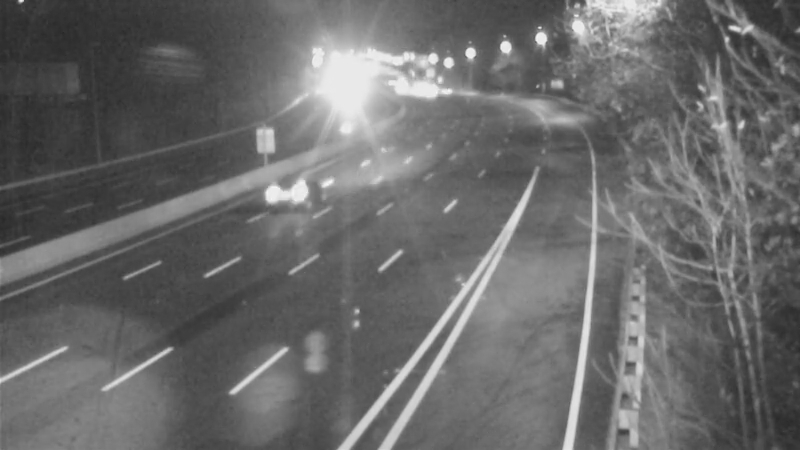vehicle: (241, 156, 321, 236), (419, 67, 469, 117)
